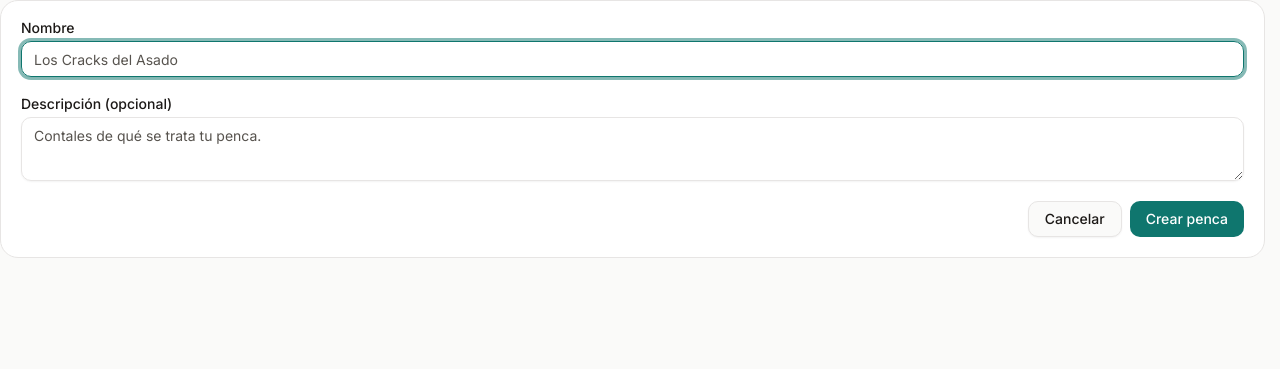
Test: CreateGroupForm › shows the owner-limit error from the backend without navigating
Type "Cuarta penca" into the field labelled "Nombre" at (632, 59), box [21, 41, 1244, 77]
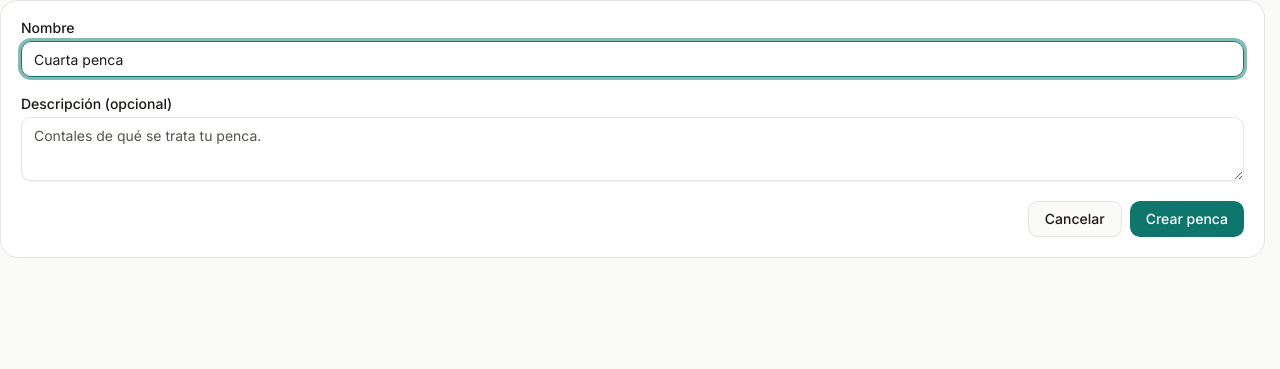
Click the button "Crear penca" at (1187, 219), box [1130, 201, 1244, 237]
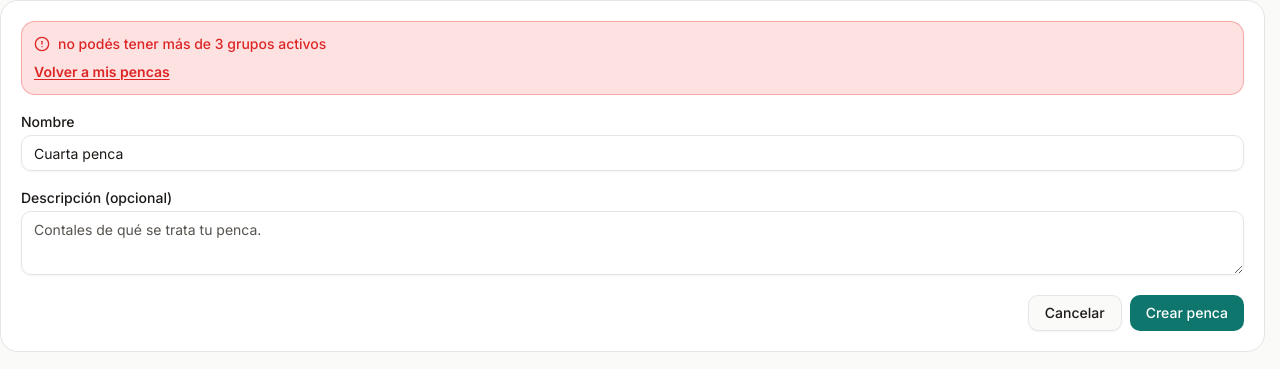
Result: the text "no podés tener más de 3 grupos activos" is shown at [34, 35, 326, 52]
